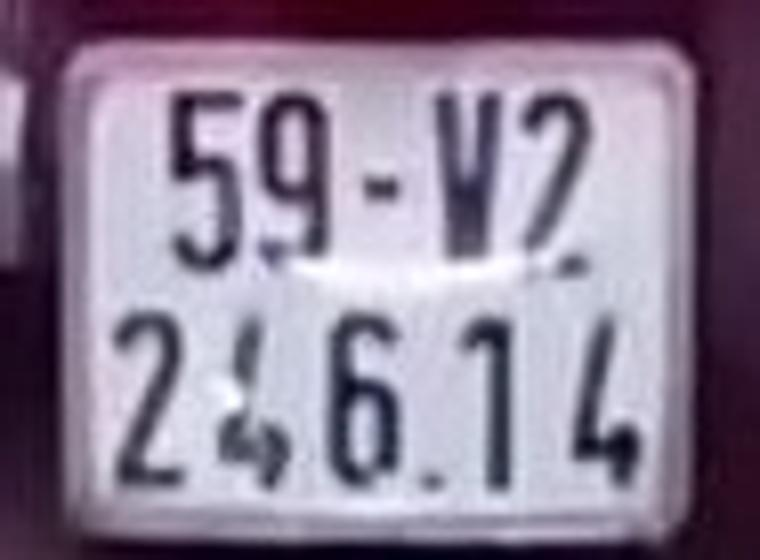-: (358, 172, 401, 215)
.: (419, 465, 449, 498)
1: (463, 309, 526, 504)
2: (103, 303, 195, 492), (516, 86, 601, 287)
4: (572, 310, 655, 499), (218, 312, 296, 497)
5: (163, 92, 254, 283)
6: (329, 310, 411, 491)
9: (256, 81, 343, 276)
V: (431, 91, 507, 274)
